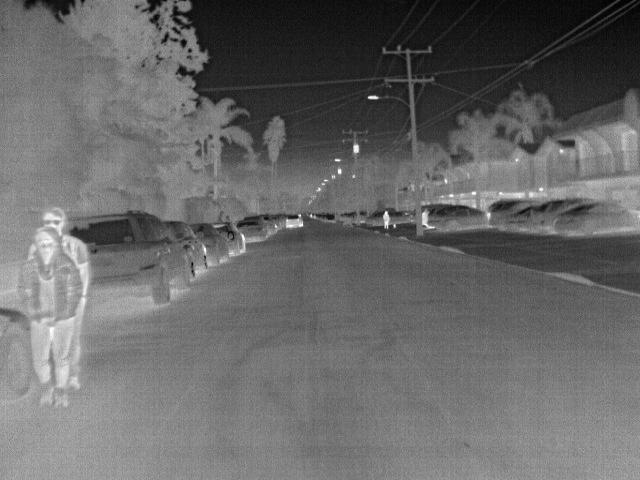car: (66, 211, 198, 306), (1, 305, 35, 404), (554, 200, 638, 235), (164, 220, 210, 276), (532, 198, 595, 235), (429, 202, 493, 232), (193, 223, 228, 264), (489, 198, 535, 226), (213, 221, 245, 258), (499, 207, 536, 235), (237, 218, 267, 244), (284, 212, 305, 229), (257, 215, 275, 234), (324, 213, 338, 224)
person: (31, 202, 90, 400), (27, 227, 82, 407), (380, 209, 394, 231)
